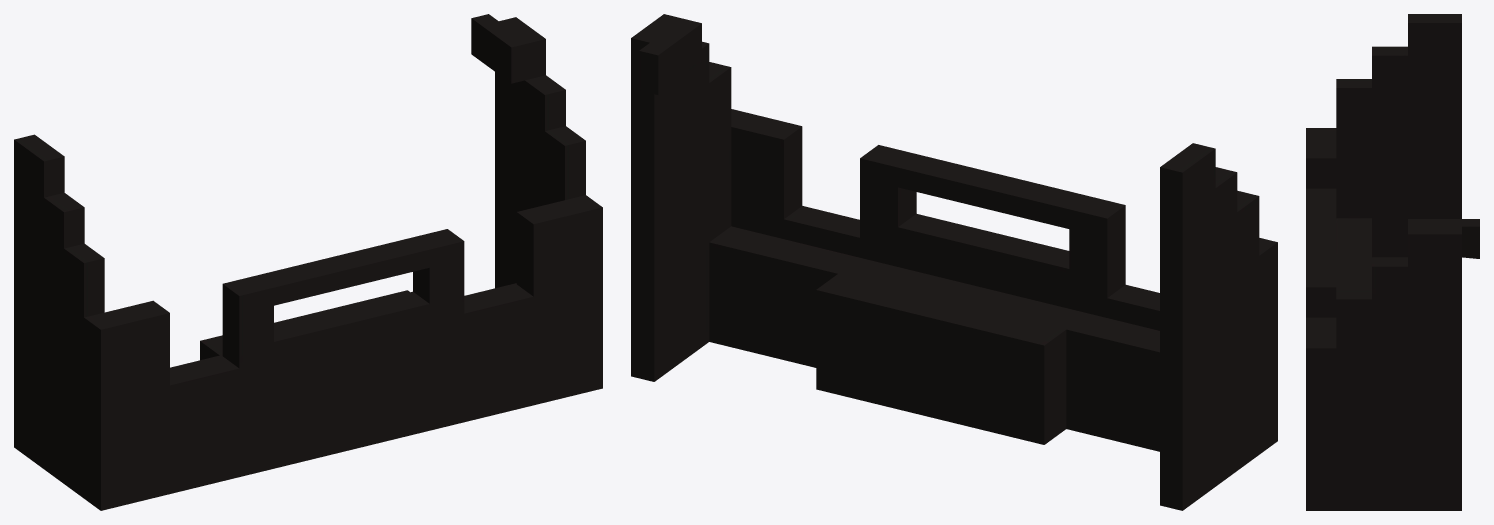
File: beard.glb
3 renders of one model, left to right at view 1: azimuth 30°, elevation 25°; view 2: azimuth 150°, elevation 25°; view 3: azimuth 270°, elevation 25°, orthographic. The views are drawn at different scales.
Visible parts, largest first — view 1: beard.001; view 2: beard.001; view 3: beard.001.
Part boxes in pixels (x1,y1,x2,y2): beard.001: (14,14,602,510); beard.001: (631,14,1277,510); beard.001: (1306,14,1479,510).
Size of the model in its own units: 2.9 by 1.7 by 0.968.
Materials: 1 (1 with a texture image).
